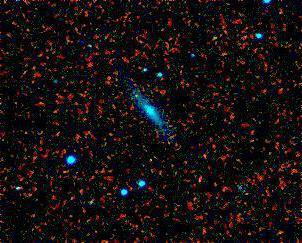star: (122, 81, 152, 111)
